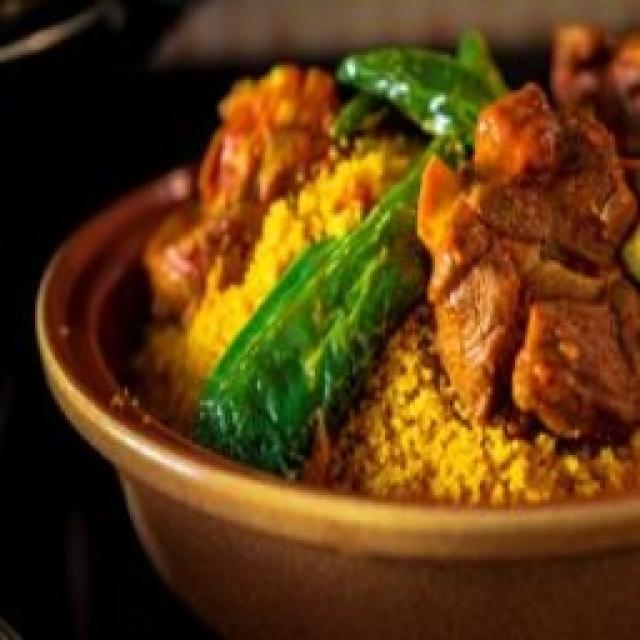Couscous: (132, 28, 640, 515)
